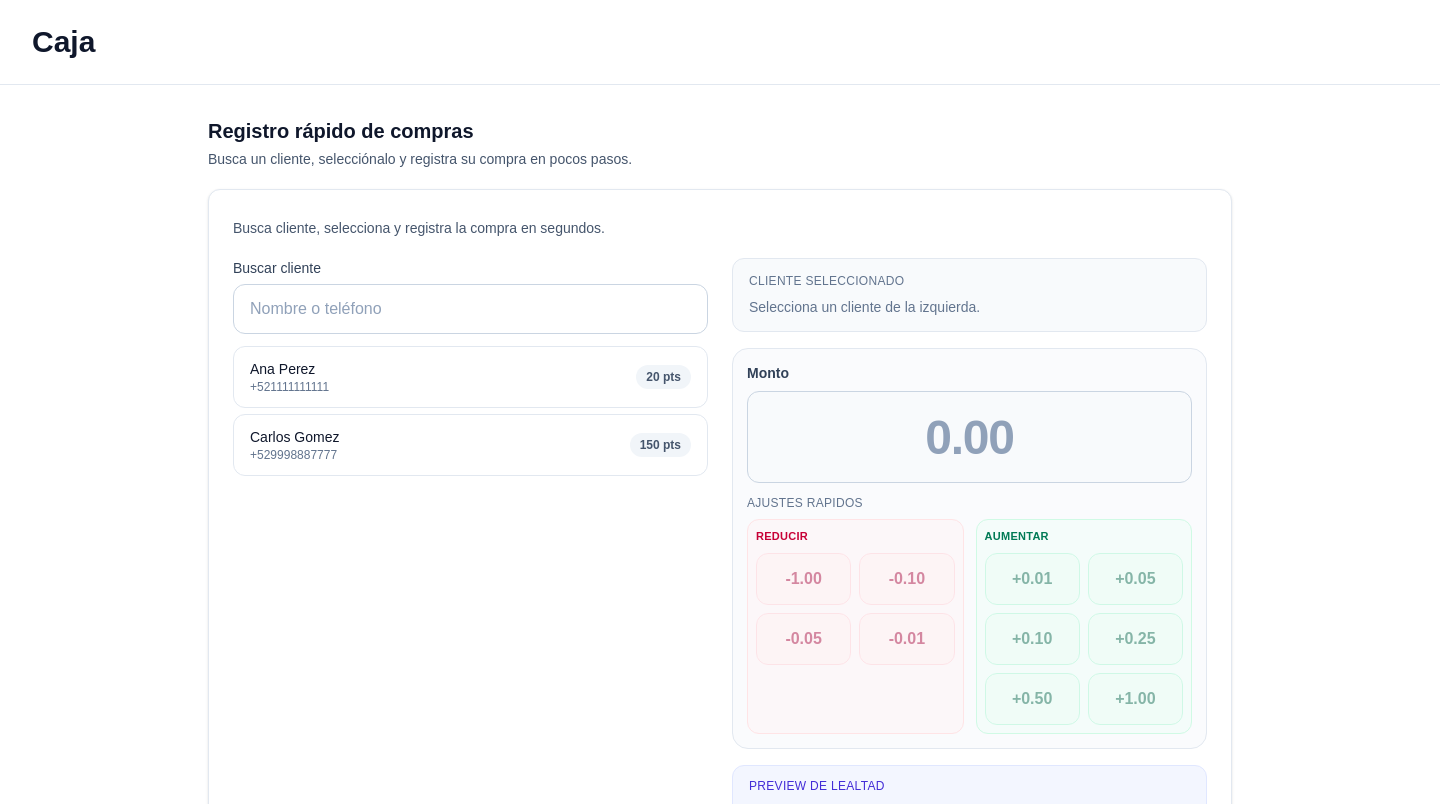
Test: DashboardCajaPage (/dashboard/caja) › customer search › filters the customer list when user types a name
Type "Ana" into the search field labelled "Buscar cliente" at (470, 309), box [233, 284, 708, 334]
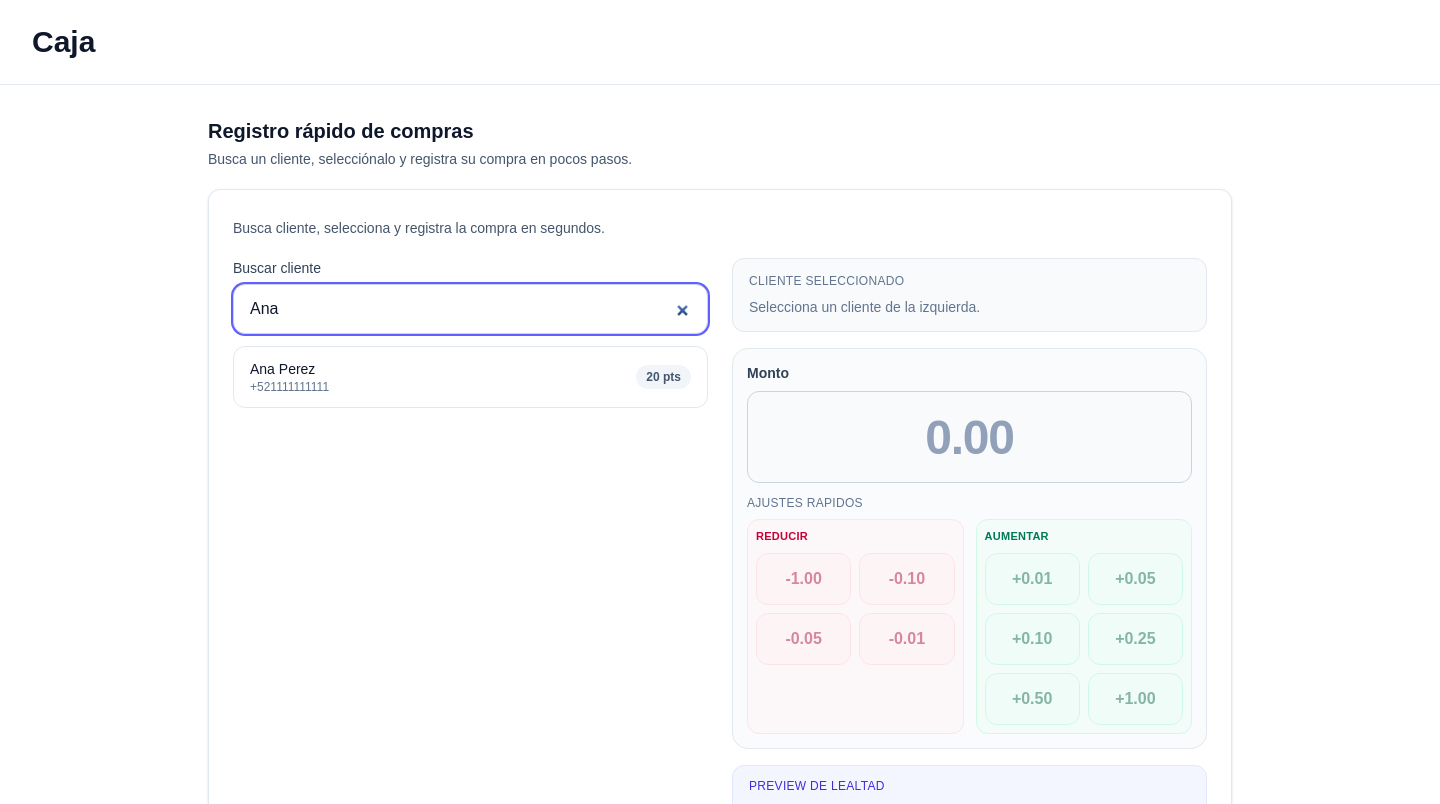
Check: the button "Ana Perez +521111111111 20 pts" is shown, box [233, 346, 708, 408]
Check: the button "Carlos Gomez" is gone
